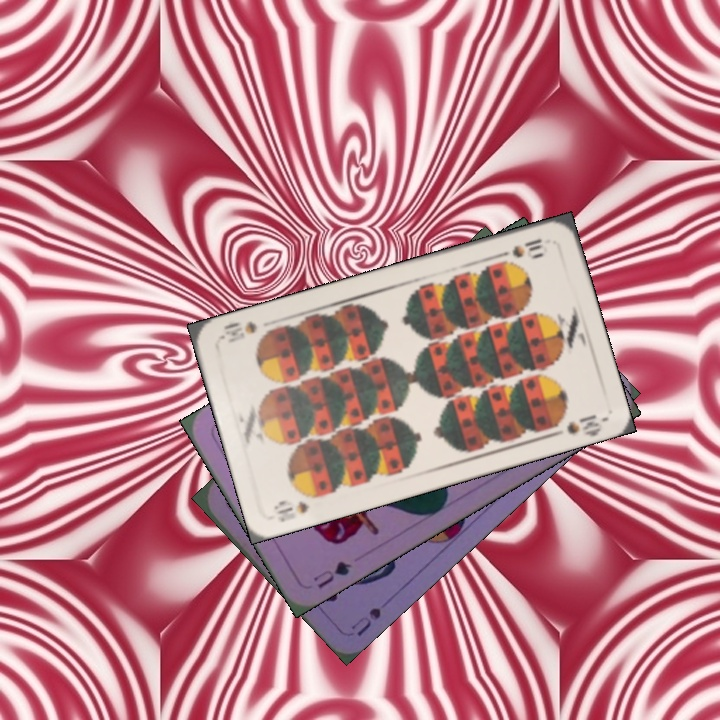GU: (309, 557, 354, 591)
S10: (270, 491, 325, 525), (495, 234, 547, 261)
SU: (346, 603, 384, 640)
